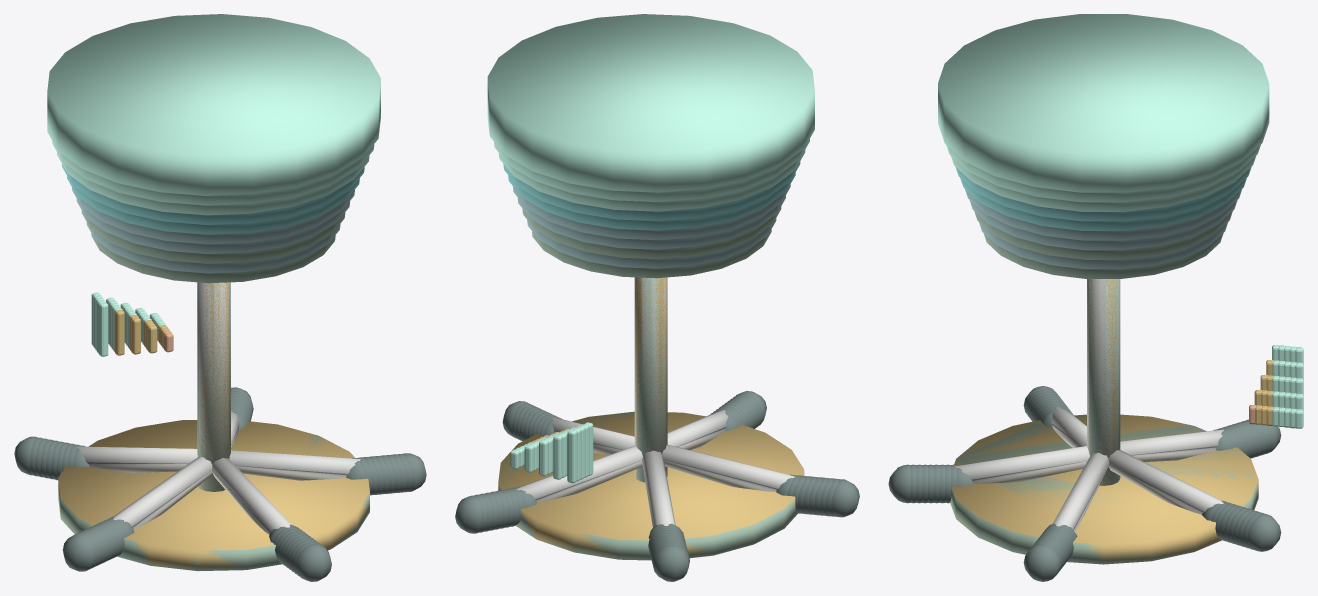
Rendered from Gear13.fbx.
The picture shows the model from 3 angles, left to right: view 1: azimuth 30°, elevation 25°; view 2: azimuth 150°, elevation 25°; view 3: azimuth 270°, elevation 25°; orthographic projection.
Visible parts, largest first — view 1: Gear13_V10_Glow, Gear13_V10_Gold, Gear13_V1_Sage, Gear13_V10_Chrome, Gear13_V9_Glow, Gear13_V8_Glow, Gear13_V10_Ink, Gear13_V2_Blue, Gear13_V7_Aqua, Gear13_V6_Aqua, Gear13_V5_Blue, Gear13_V5_Chrome (+18 smaller); view 2: Gear13_V10_Glow, Gear13_V10_Gold, Gear13_V1_Sage, Gear13_V10_Chrome, Gear13_V9_Glow, Gear13_V2_Blue, Gear13_V10_Ink, Gear13_V8_Glow, Gear13_V7_Aqua, Gear13_V6_Aqua, Gear13_V5_Blue, Gear13_V4_Blue (+15 smaller); view 3: Gear13_V10_Glow, Gear13_V10_Gold, Gear13_V1_Sage, Gear13_V10_Chrome, Gear13_V2_Blue, Gear13_V9_Glow, Gear13_V8_Glow, Gear13_V10_Ink, Gear13_V7_Aqua, Gear13_V6_Aqua, Gear13_V5_Blue, Gear13_V4_Blue (+15 smaller).
Part boxes in pixels (left/top/right/bottom): Gear13_V10_Glow: left=47, top=14, right=380, bottom=345; Gear13_V10_Gold: left=58, top=282, right=369, bottom=569; Gear13_V1_Sage: left=58, top=233, right=369, bottom=571; Gear13_V10_Chrome: left=77, top=410, right=360, bottom=531; Gear13_V9_Glow: left=52, top=141, right=374, bottom=348; Gear13_V8_Glow: left=57, top=152, right=369, bottom=350; Gear13_V10_Ink: left=14, top=387, right=426, bottom=581; Gear13_V2_Blue: left=86, top=222, right=340, bottom=491; Gear13_V7_Aqua: left=62, top=164, right=364, bottom=224; Gear13_V6_Aqua: left=67, top=176, right=359, bottom=234; Gear13_V5_Blue: left=72, top=187, right=354, bottom=244; Gear13_V5_Chrome: left=89, top=282, right=346, bottom=533; Gear13_V10_Glow: left=487, top=14, right=814, bottom=483; Gear13_V10_Gold: left=498, top=277, right=804, bottom=559; Gear13_V1_Sage: left=498, top=229, right=804, bottom=560; Gear13_V10_Chrome: left=516, top=410, right=794, bottom=525; Gear13_V9_Glow: left=494, top=139, right=809, bottom=481; Gear13_V2_Blue: left=527, top=218, right=776, bottom=481; Gear13_V10_Ink: left=455, top=391, right=859, bottom=581; Gear13_V8_Glow: left=498, top=150, right=805, bottom=479; Gear13_V7_Aqua: left=503, top=161, right=800, bottom=221; Gear13_V6_Aqua: left=508, top=173, right=795, bottom=230; Gear13_V5_Blue: left=513, top=184, right=790, bottom=240; Gear13_V4_Blue: left=517, top=195, right=785, bottom=249; Gear13_V10_Glow: left=938, top=14, right=1303, bottom=428; Gear13_V10_Gold: left=951, top=279, right=1258, bottom=563; Gear13_V1_Sage: left=950, top=233, right=1258, bottom=564; Gear13_V10_Chrome: left=955, top=407, right=1223, bottom=528; Gear13_V2_Blue: left=979, top=222, right=1228, bottom=485; Gear13_V9_Glow: left=946, top=144, right=1296, bottom=428; Gear13_V8_Glow: left=951, top=156, right=1290, bottom=427; Gear13_V10_Ink: left=888, top=386, right=1281, bottom=581; Gear13_V7_Aqua: left=955, top=167, right=1251, bottom=221; Gear13_V6_Aqua: left=960, top=178, right=1246, bottom=230; Gear13_V5_Blue: left=965, top=189, right=1241, bottom=240; Gear13_V4_Blue: left=969, top=200, right=1237, bottom=250.
Size of the model in its own units: 74.26 by 83.38 by 74.99.
